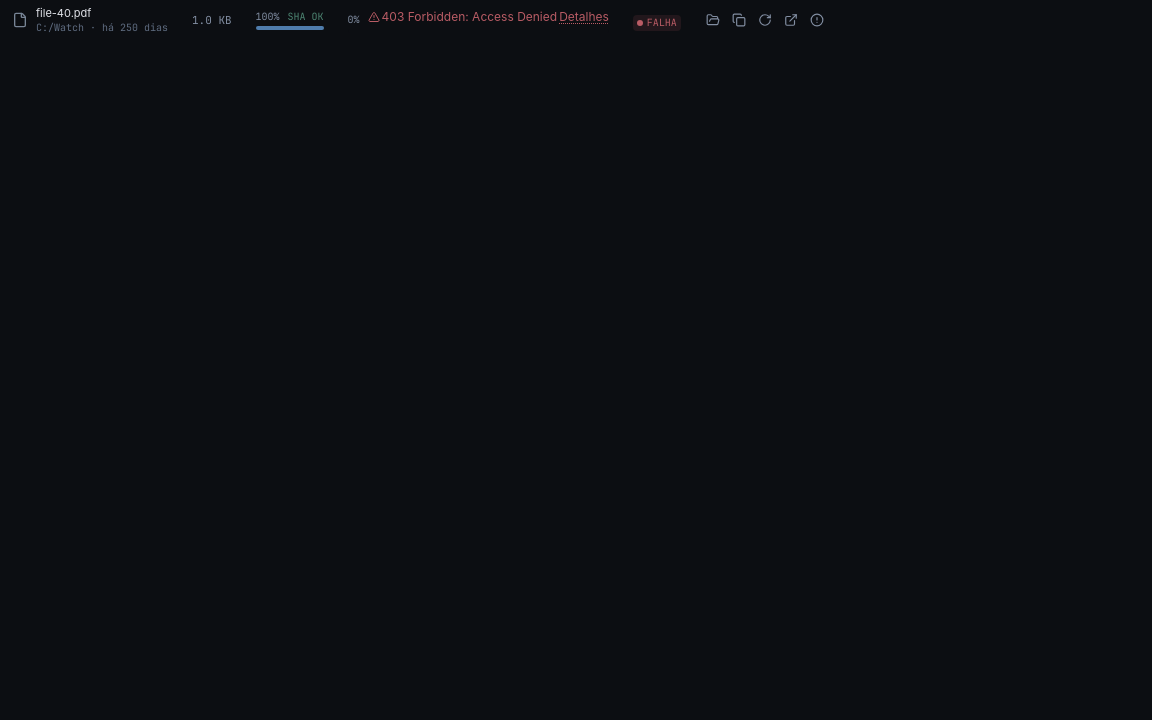
Scenario: JobRow actions › shows the failed side's last_error in the details dialog
What coordinates should you click on to do the following:
click the button named "detalhes do erro"
I would click on:
 (817, 20)
Its box is [805,8,829,32].
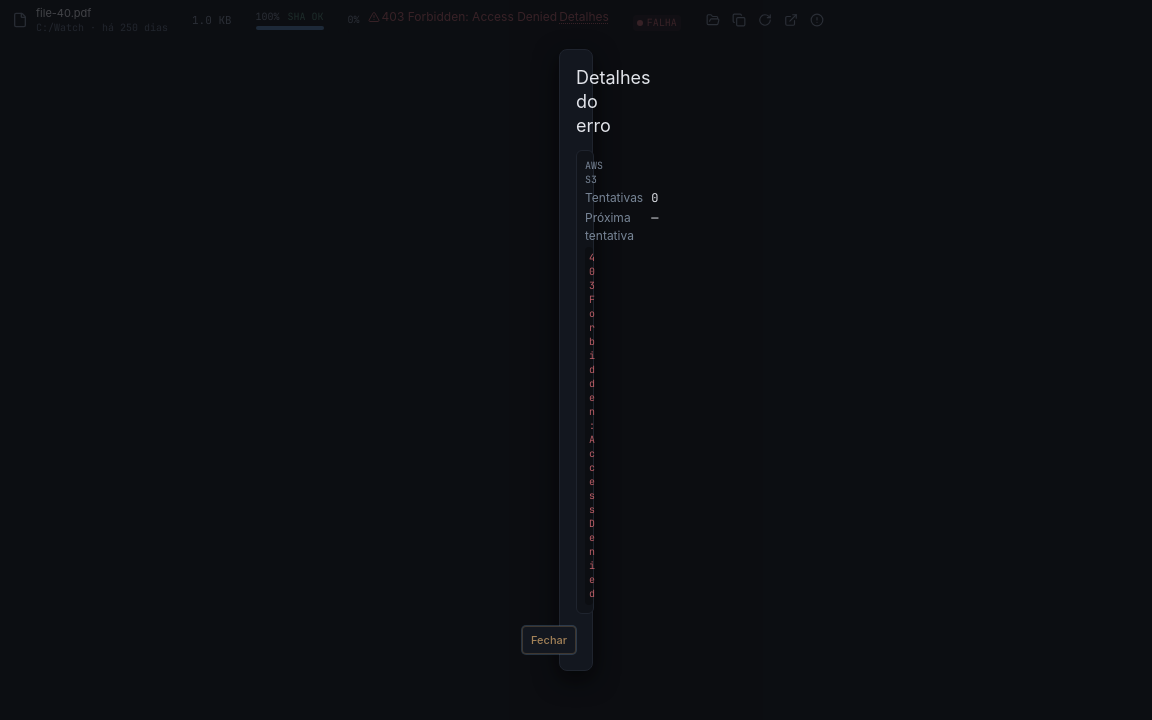
Check: the text "403 Forbidden: Access Denied" is shown, box [585,247,593,605]
